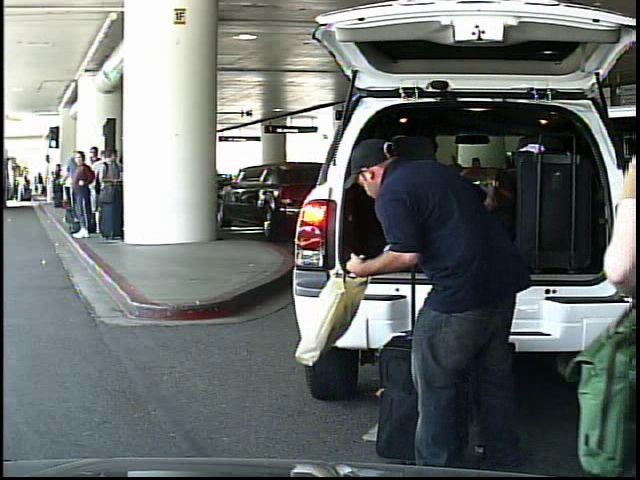person: (335, 116, 529, 480), (17, 174, 28, 205), (36, 171, 46, 198)
